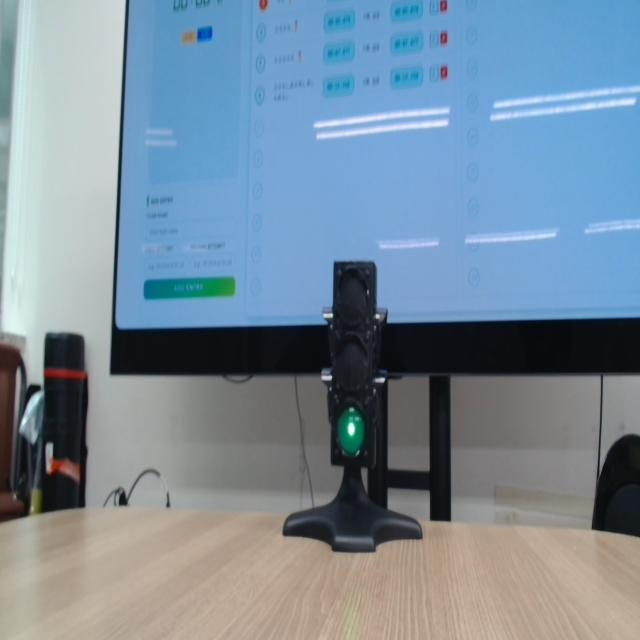green_light: (337, 407, 366, 456)
